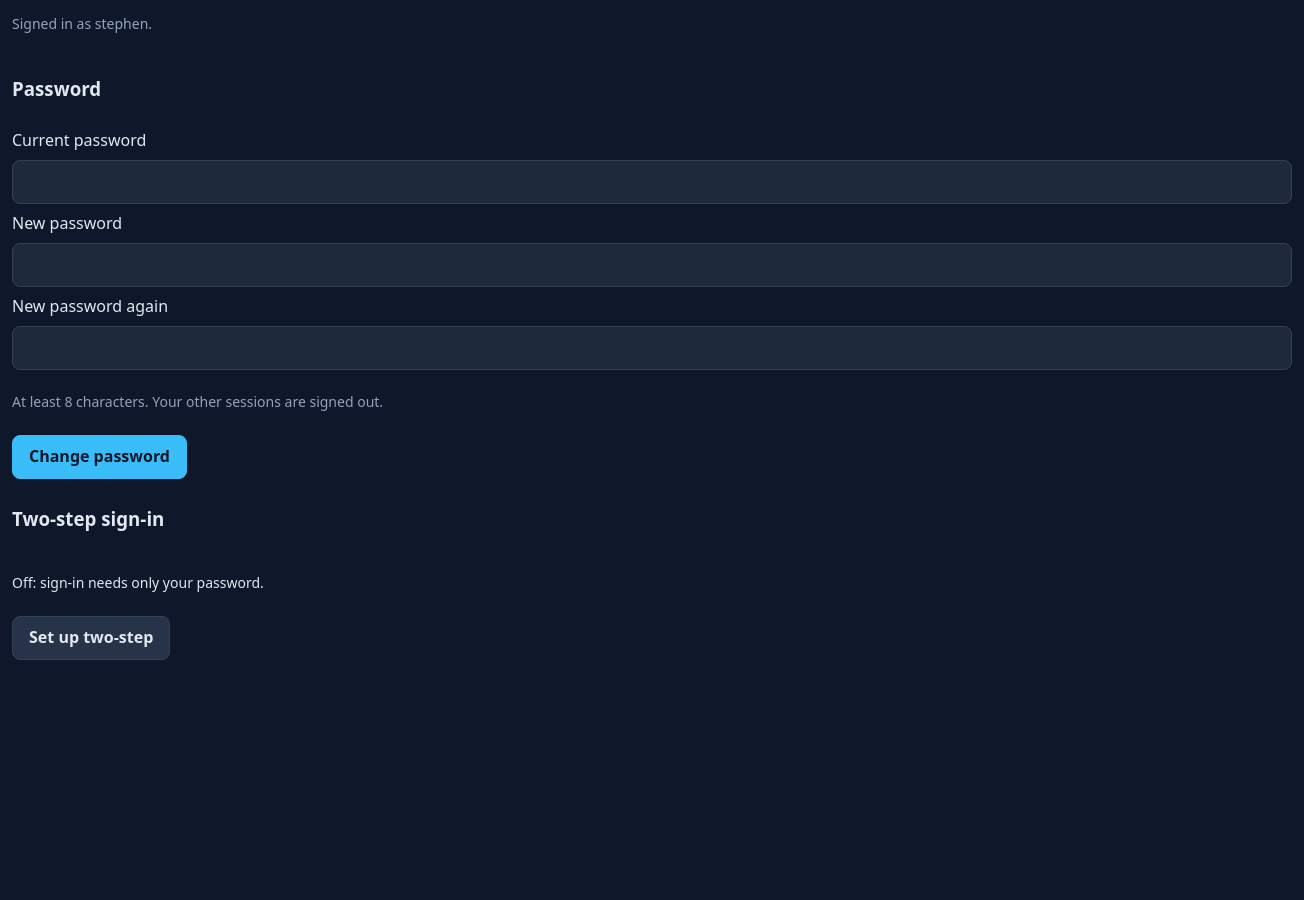
Scenario: Security: wrong credentials (403 bad_credentials, 422) › two-step confirm shows the server's 403 message and keeps the setup open
The width and height of the screenshot is (1304, 900).
Click the button "Set up two-step" at (91, 638), box [12, 616, 170, 660]
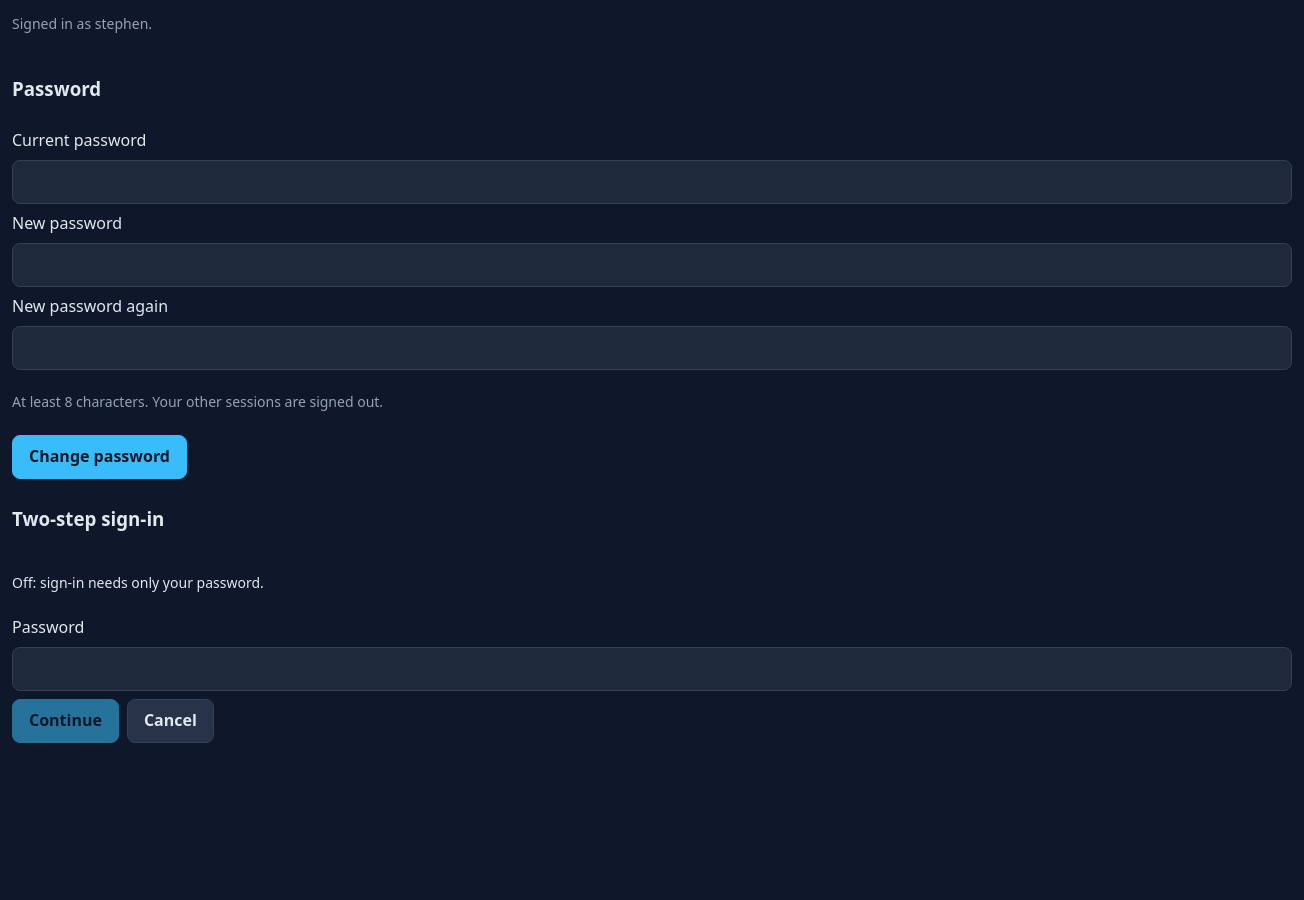
Type "my-password" into the password field labelled "Password" at (652, 669), box [12, 647, 1292, 691]
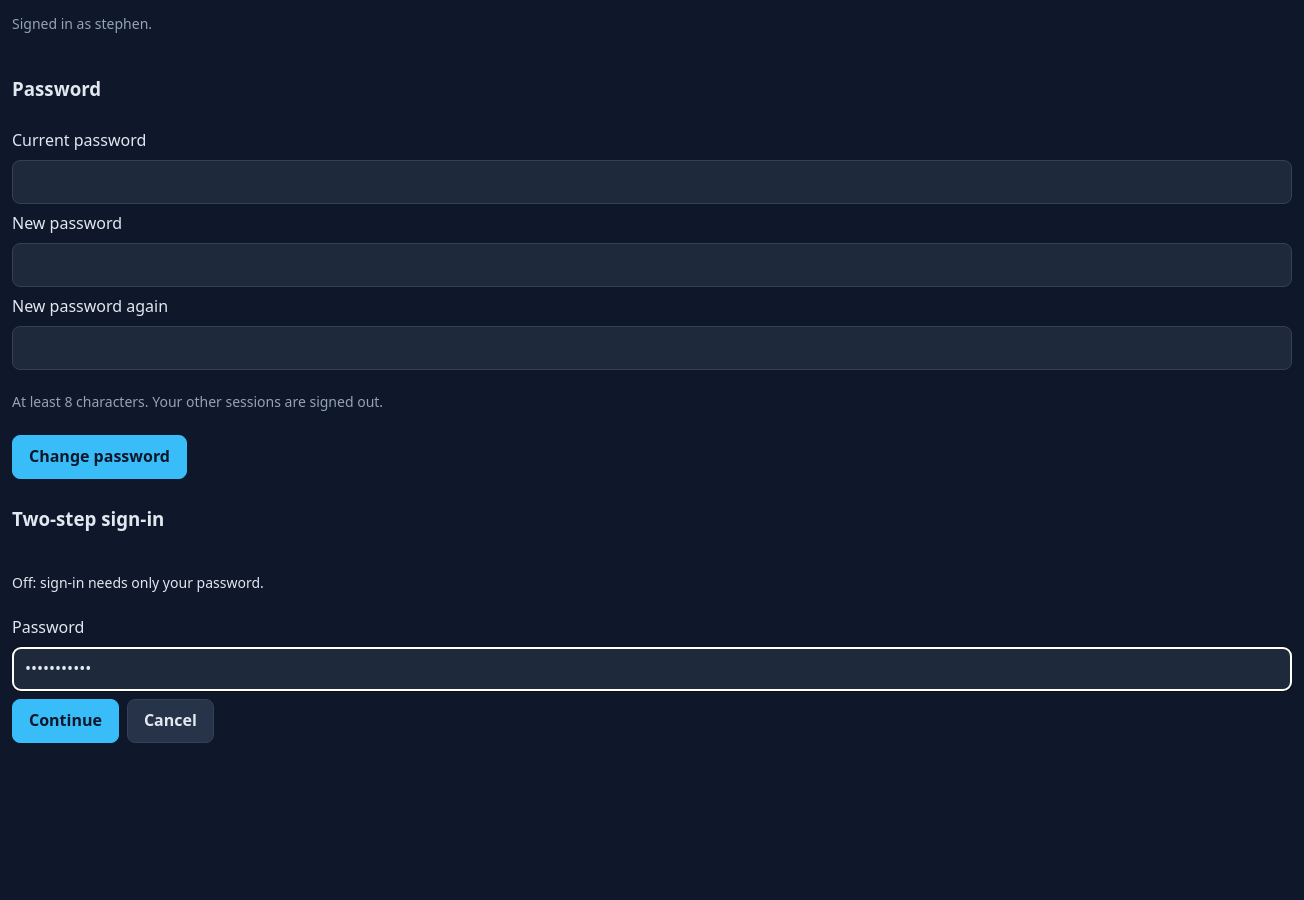
Click the button "Continue" at (65, 721), box [12, 699, 119, 743]
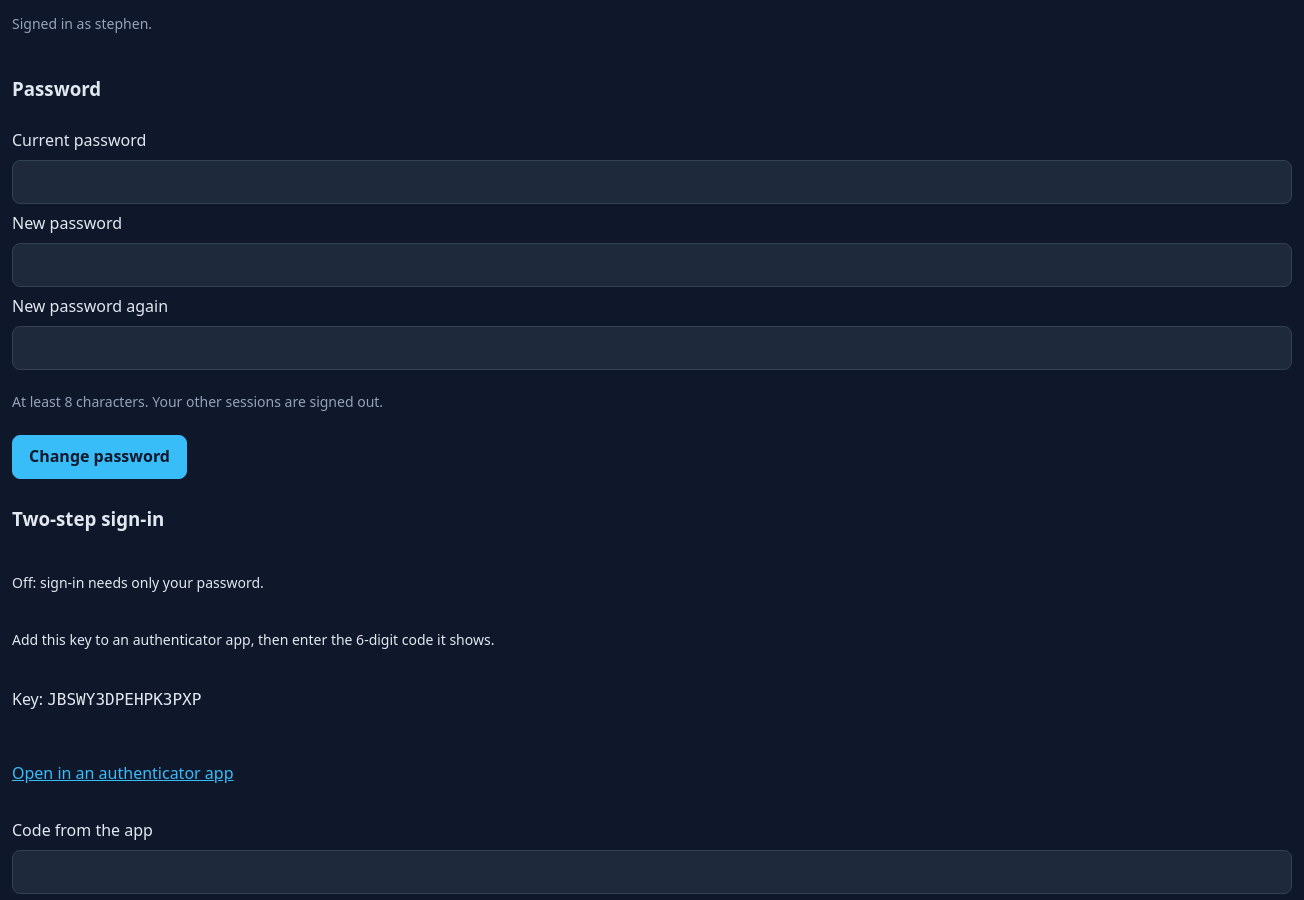
Check: the text "JBSWY3DPEHPK3PXP" is shown, box [47, 690, 201, 709]
Type "111111" into the field labelled "Code from the app" at (652, 872), box [12, 850, 1292, 894]
(page scrolled)
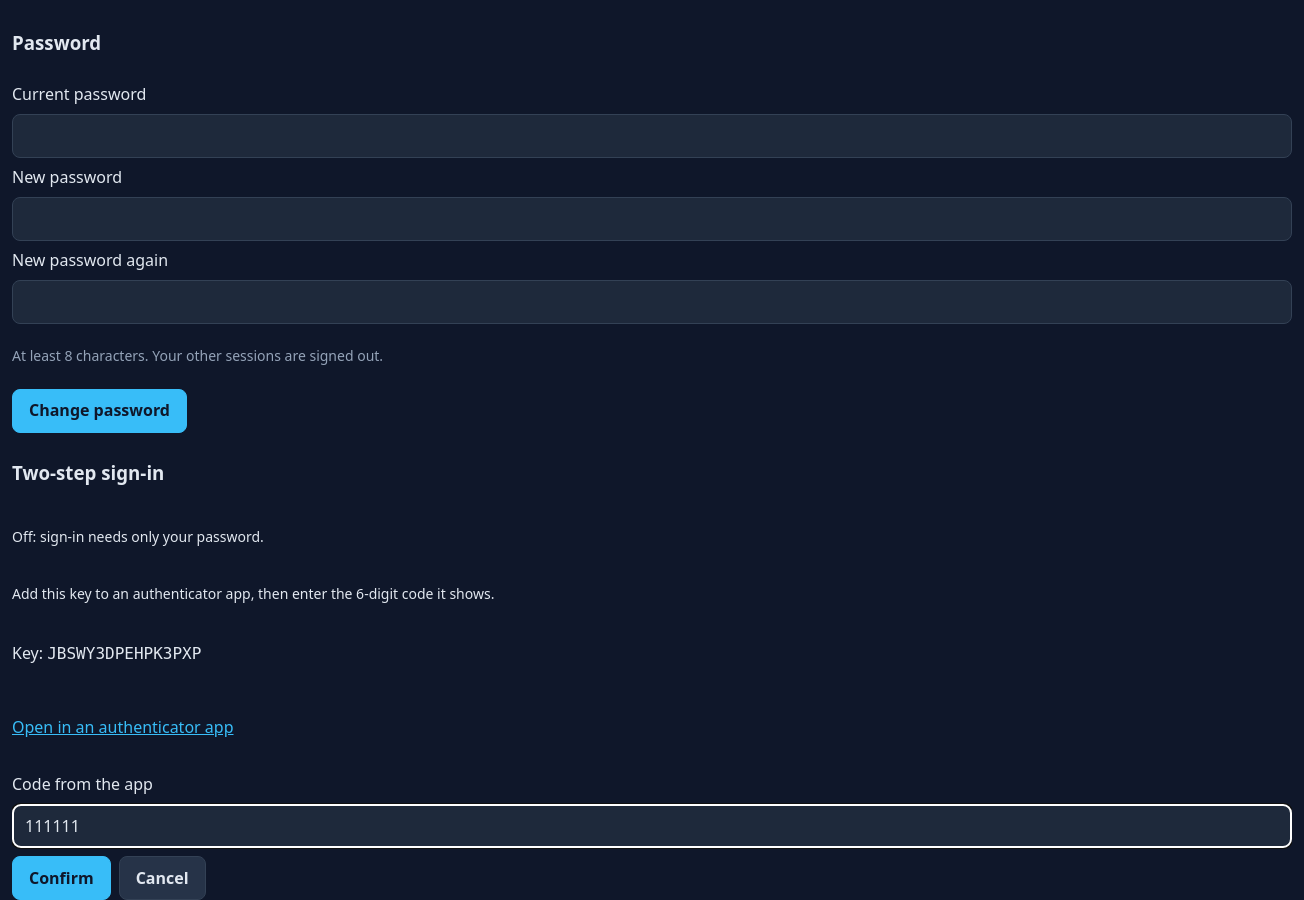
Click the button "Confirm" at (61, 878), box [12, 856, 111, 899]
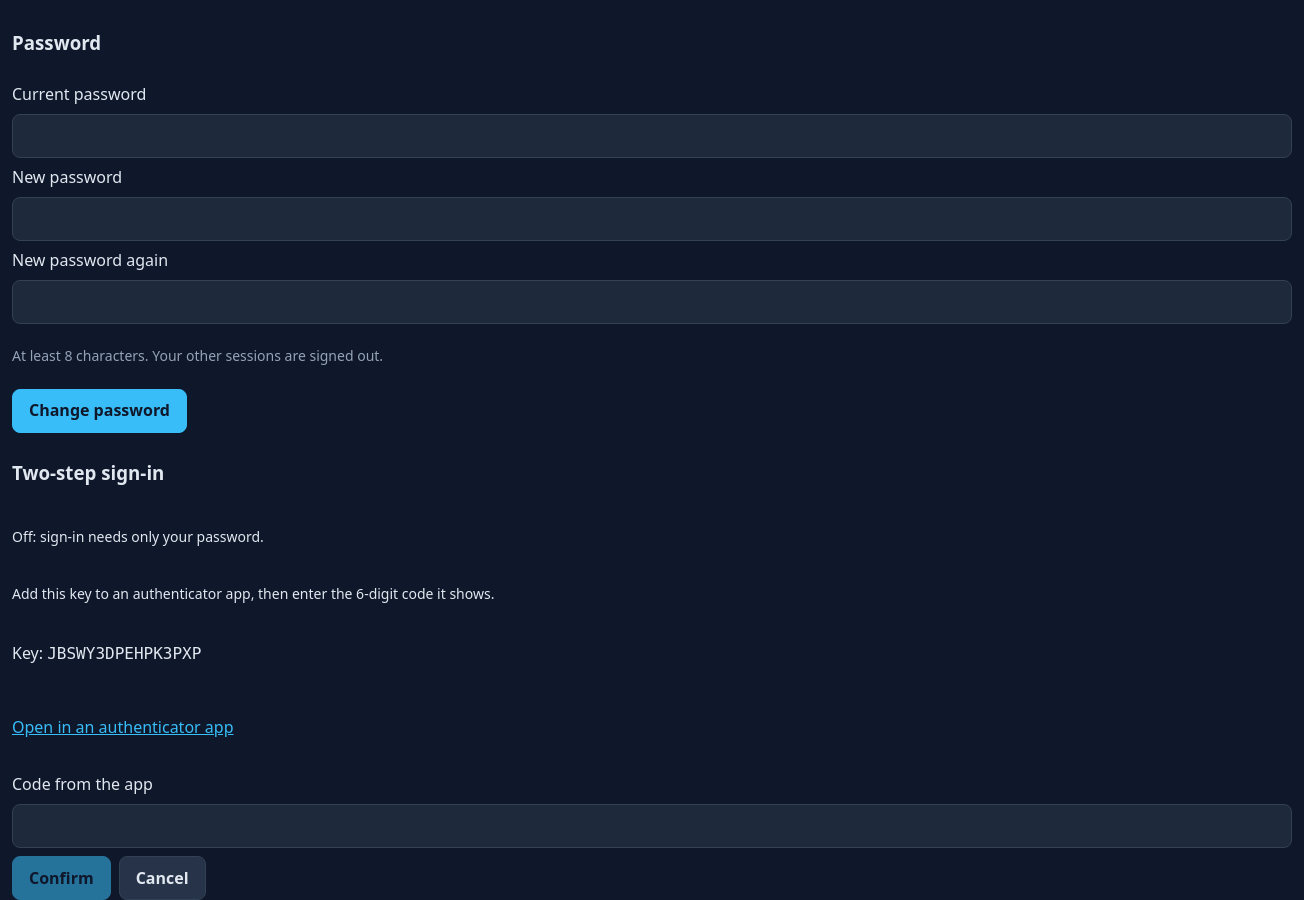
Check: the text "JBSWY3DPEHPK3PXP" is shown, box [47, 644, 201, 663]
Check: the field labelled "Code from the app" is empty, box [12, 804, 1292, 848]
